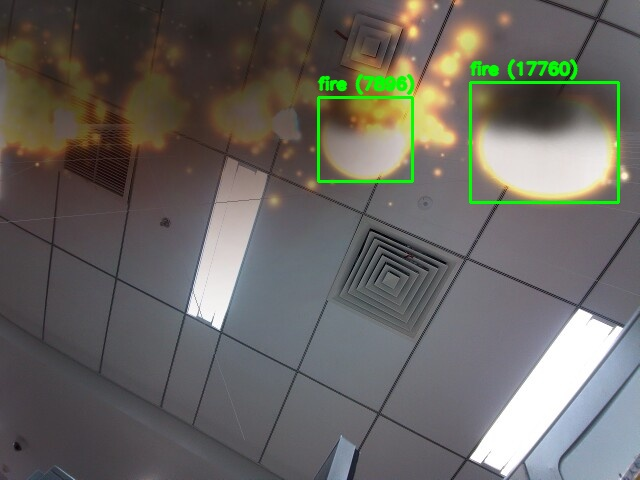fire: (470, 82, 618, 202), (318, 97, 412, 181)
